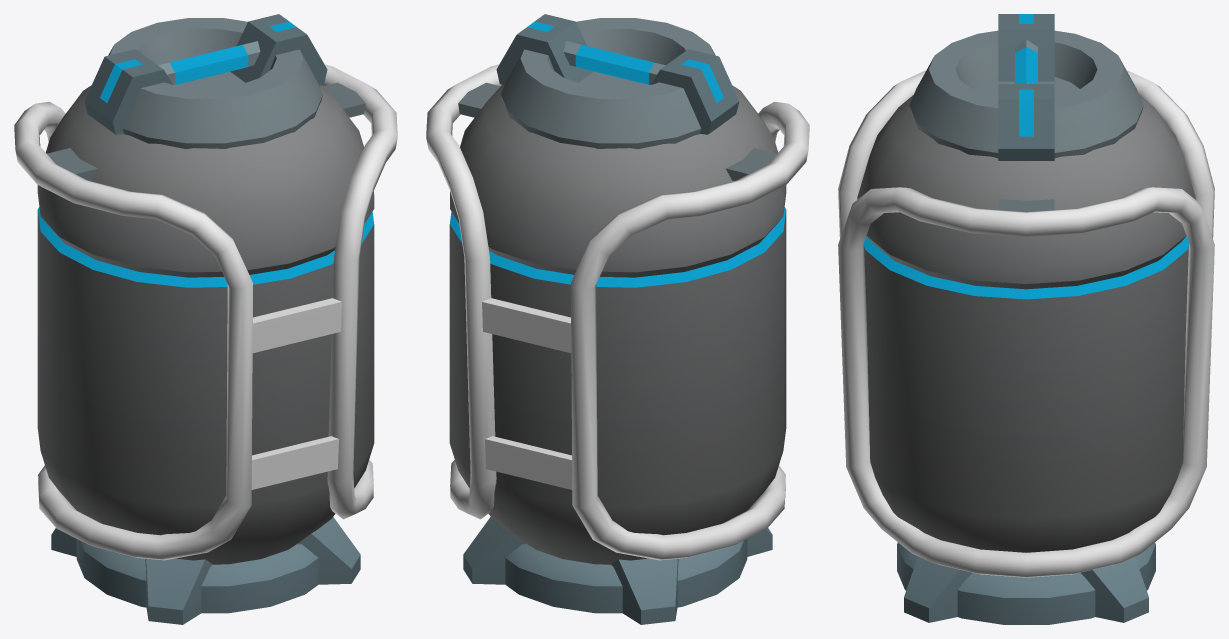
File: Barrel_004.glb
3 renders of one model, left to right at view 1: azimuth 30°, elevation 25°; view 2: azimuth 150°, elevation 25°; view 3: azimuth 270°, elevation 25°, orthographic.
Parts seen in each view (by area): view 1: Barrel_004; view 2: Barrel_004; view 3: Barrel_004.
Part boxes in pixels (x1,y1,x2,y2): Barrel_004: (14, 14, 397, 624); Barrel_004: (426, 14, 809, 624); Barrel_004: (838, 14, 1214, 624).
Size of the model in its own units: 0.6985 by 1.01 by 0.6676.
Materials: 2 (2 with a texture image).
